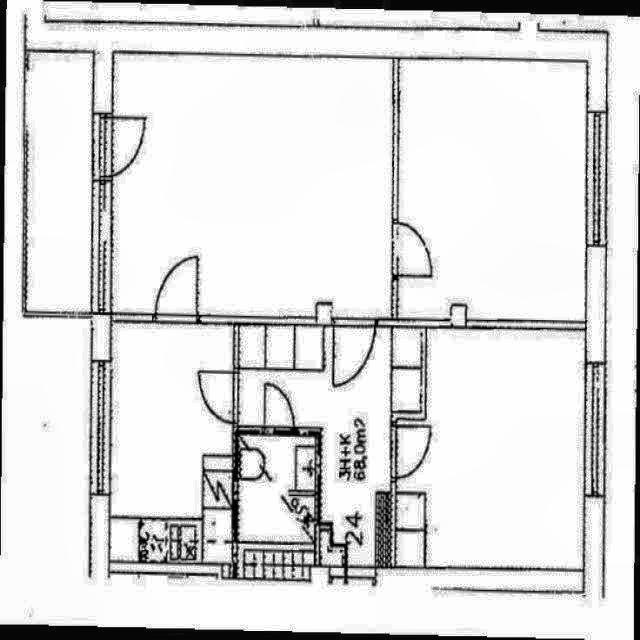room: (111, 53, 392, 317), (400, 60, 585, 319), (395, 329, 586, 569), (236, 326, 421, 565), (112, 325, 233, 563), (28, 54, 91, 312), (239, 436, 314, 564)
